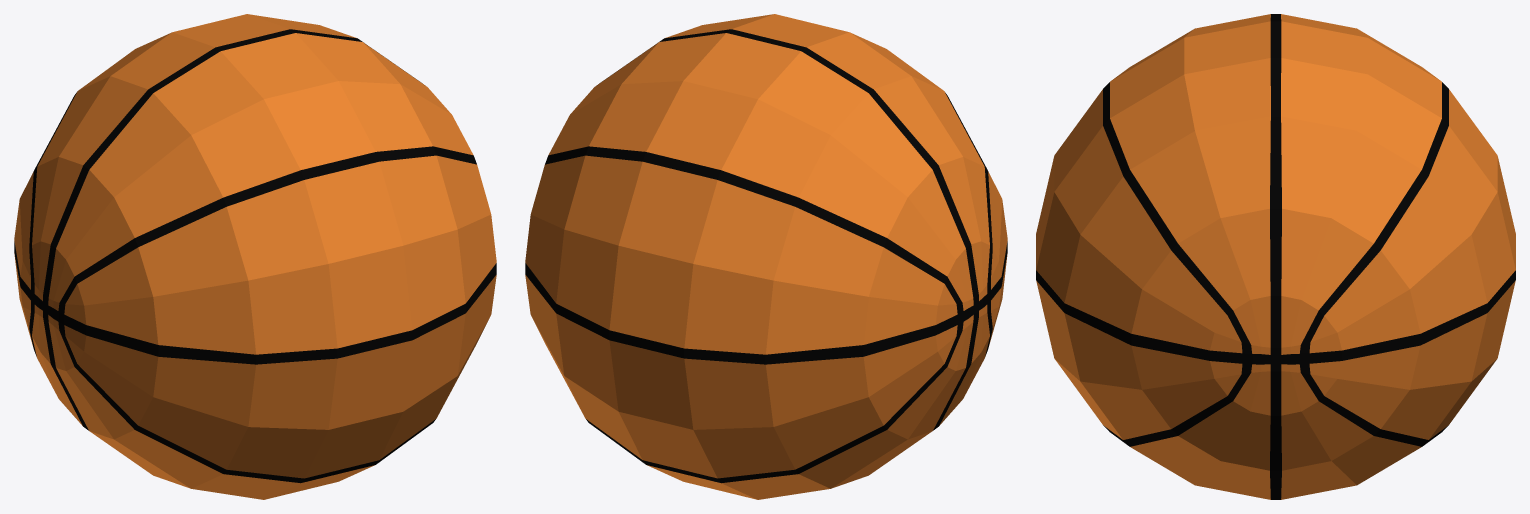
Rendered from basketball.fbx.
3 views of the same model, side by side, from view 1: azimuth 30°, elevation 25°; view 2: azimuth 150°, elevation 25°; view 3: azimuth 270°, elevation 25° (orthographic).
Parts seen in each view (by area): view 1: Sphere.001; view 2: Sphere.001; view 3: Sphere.001.
Boxes of the visible parts, x1=… form: Sphere.001: x1=14, y1=14, x2=496, y2=499; Sphere.001: x1=525, y1=14, x2=1007, y2=499; Sphere.001: x1=1036, y1=14, x2=1515, y2=499.
Bounding box in the file's own units: 111 × 109 × 109.
